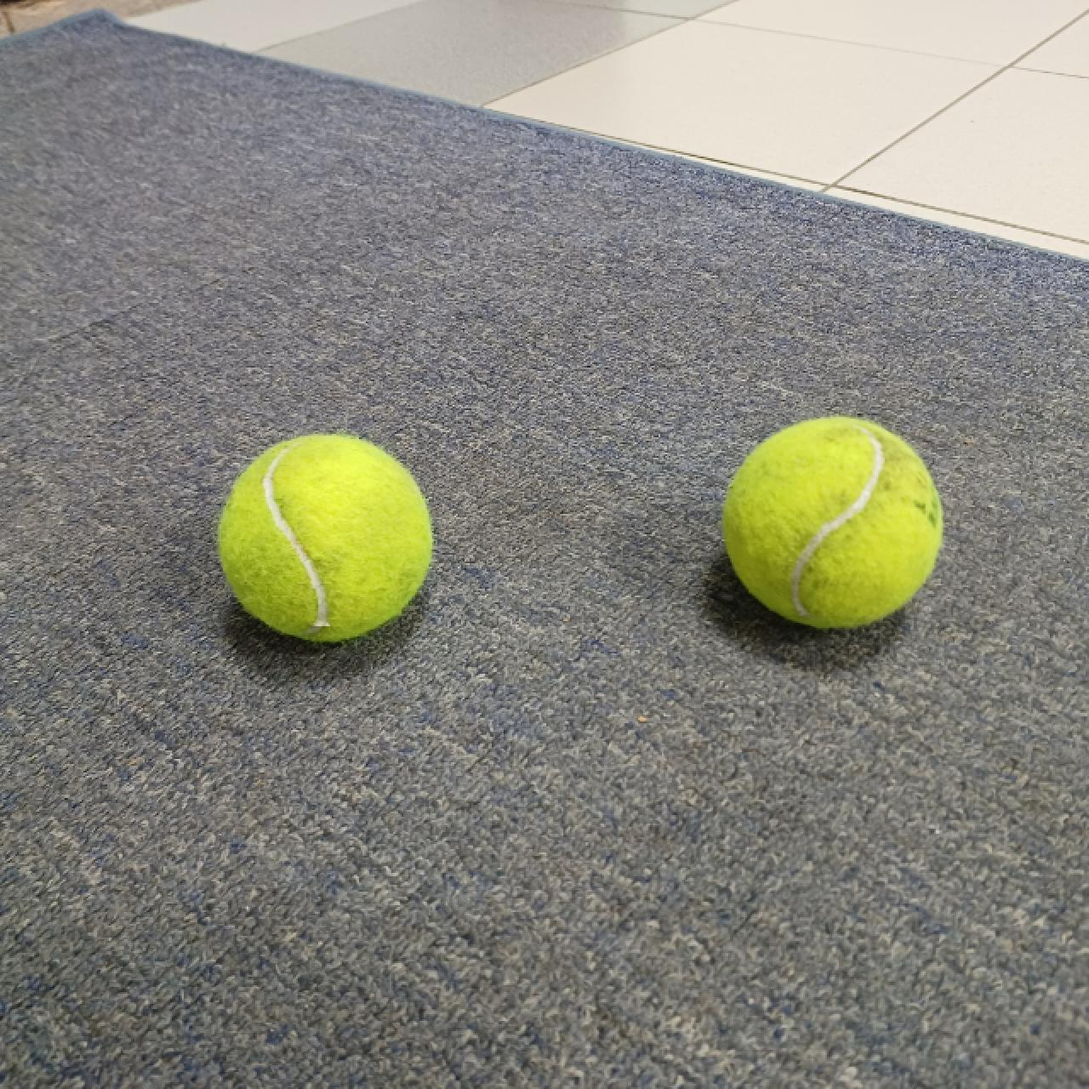tennis-ball: (720, 413, 944, 628), (215, 432, 430, 642)
